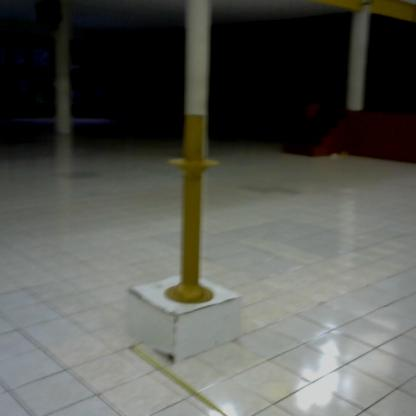pole: (166, 110, 223, 308)
